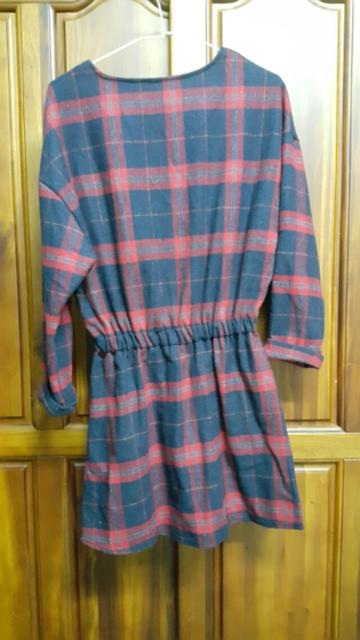Dresses: (41, 46, 318, 551)
